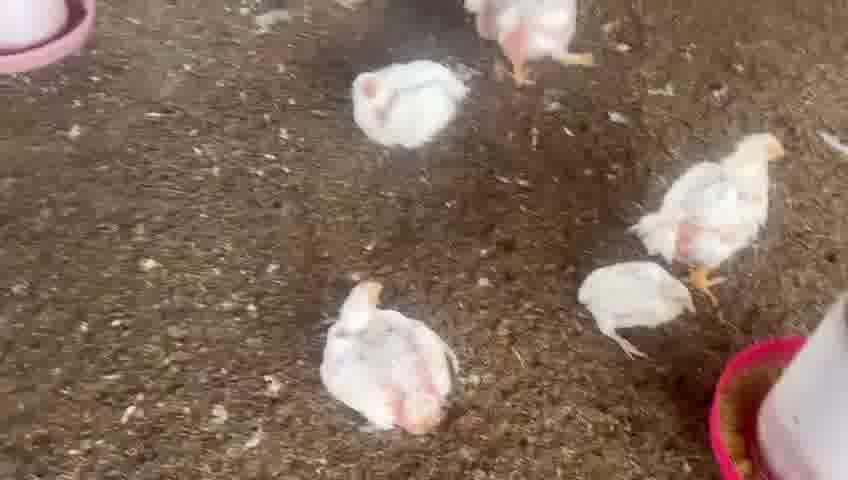AbNormal: (319, 274, 459, 431), (350, 63, 465, 148)
Normal: (654, 134, 787, 291), (462, 4, 611, 89), (577, 264, 693, 359)
